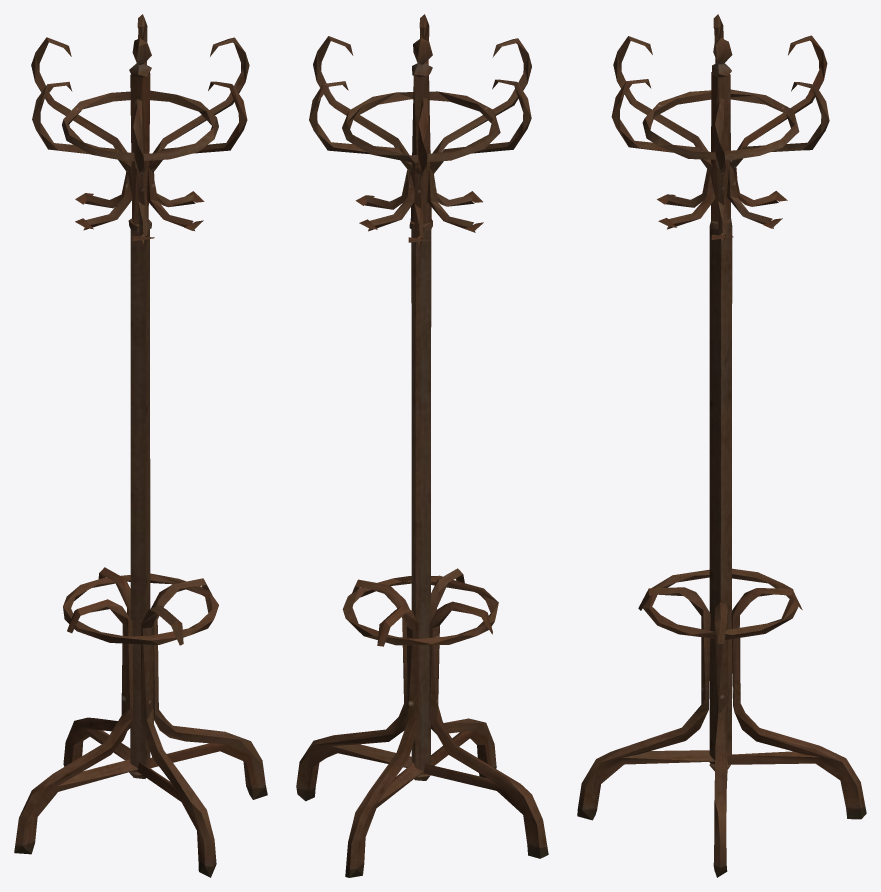
File: coat-stand.lod1.glb
3 renders of one model, left to right at view 1: azimuth 30°, elevation 25°; view 2: azimuth 150°, elevation 25°; view 3: azimuth 270°, elevation 25°, orthographic.
Parts seen in each view (by area): view 1: coat-stand; view 2: coat-stand; view 3: coat-stand.
Part boxes in pixels (box(x1,y1,x2,y2)): coat-stand: box(14, 14, 267, 877); coat-stand: box(296, 14, 548, 877); coat-stand: box(577, 14, 866, 877).
Size of the model in its own units: 0.6461 by 1.93 by 0.6481.
1 material, 1 textured.
